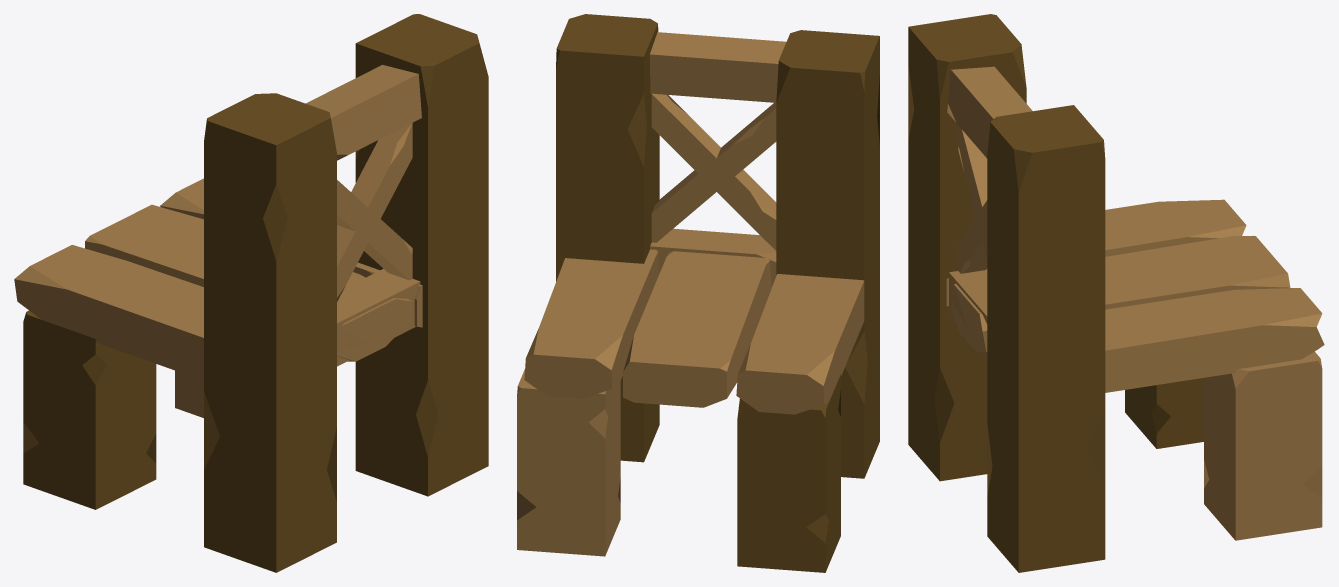
File: Chair.fbx
3 renders of one model, left to right at view 1: azimuth 30°, elevation 25°; view 2: azimuth 150°, elevation 25°; view 3: azimuth 270°, elevation 25°, orthographic. The views are drawn at different scales.
Parts seen in each view (by area): view 1: Cubo.004; view 2: Cubo.004; view 3: Cubo.004.
Boxes of the visible parts, bbox=[...] form: Cubo.004: bbox=[14, 14, 488, 572]; Cubo.004: bbox=[517, 14, 879, 572]; Cubo.004: bbox=[908, 14, 1324, 572].
Bounding box in the file's own units: 181 × 201 × 181.
